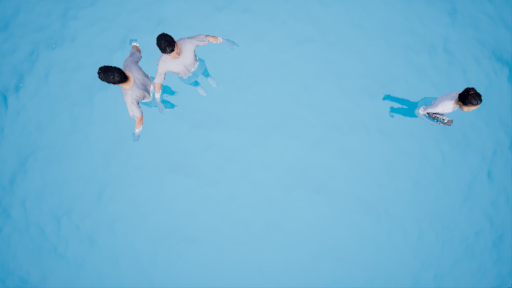person: (140, 28, 247, 103), (100, 44, 167, 131), (379, 87, 487, 140)
